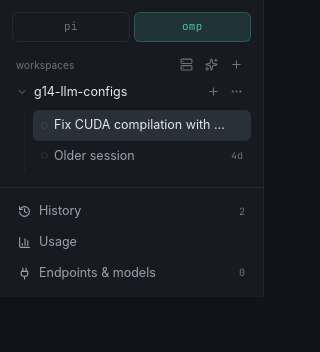
Sidebar › starts a generic local scratch session from the rail
Click the button named "Start scratch session" at (212, 64), box 201,54 -> 222,75
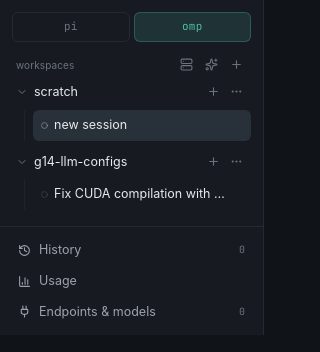
Check: the text "scratch" is shown, box 34,83 -> 78,102
Check: the button with aria-label "Collapse workspace scratch" is shown, box 16,79 -> 199,106
